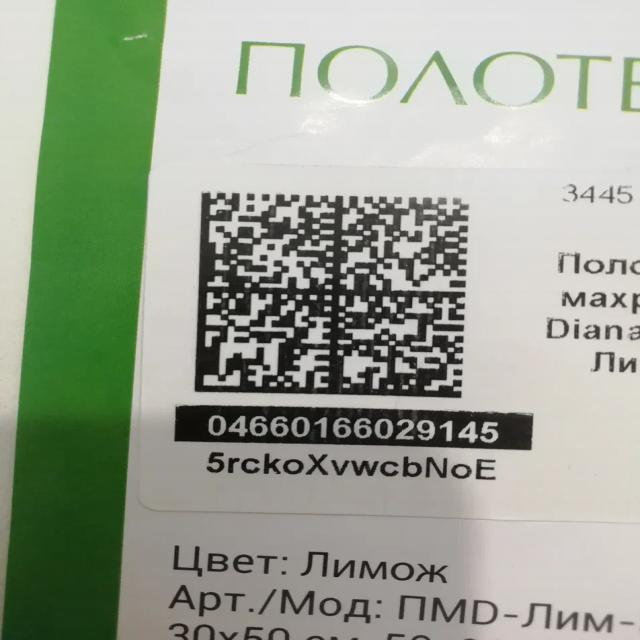datamatrix: (191, 188, 478, 402)
